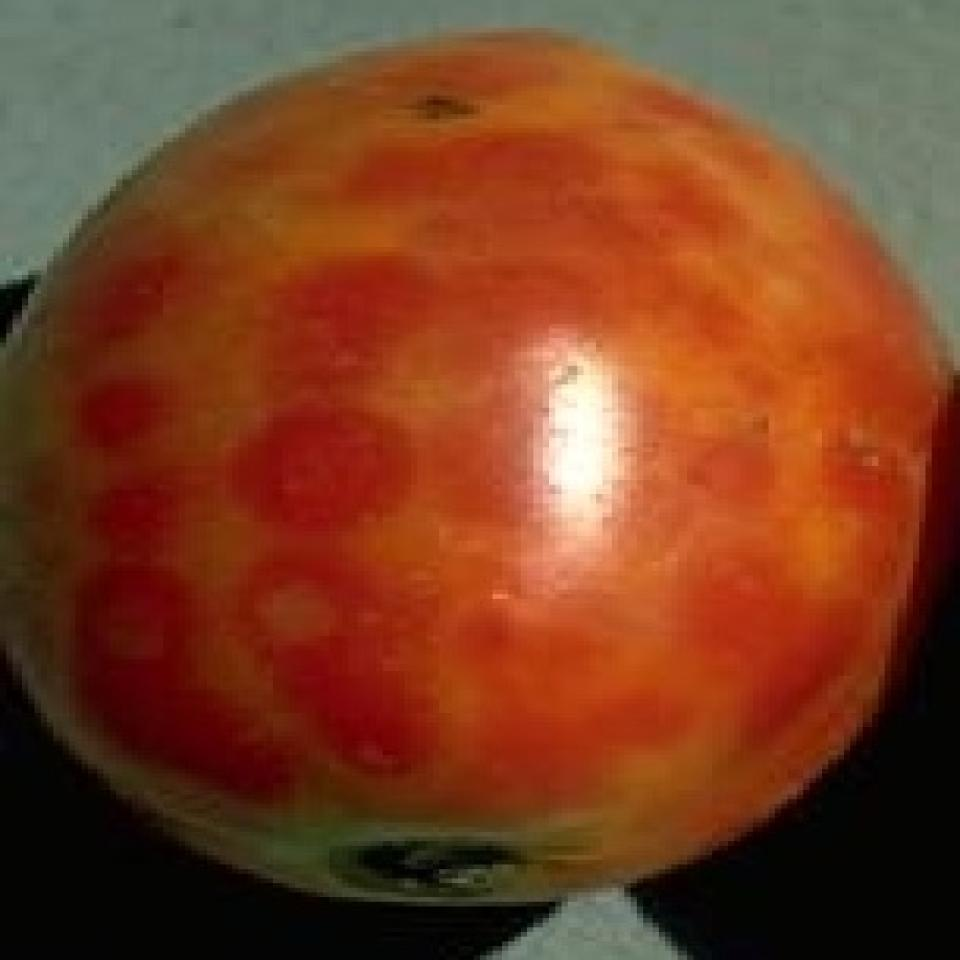Spotted wilt Virus: (0, 21, 937, 908)
